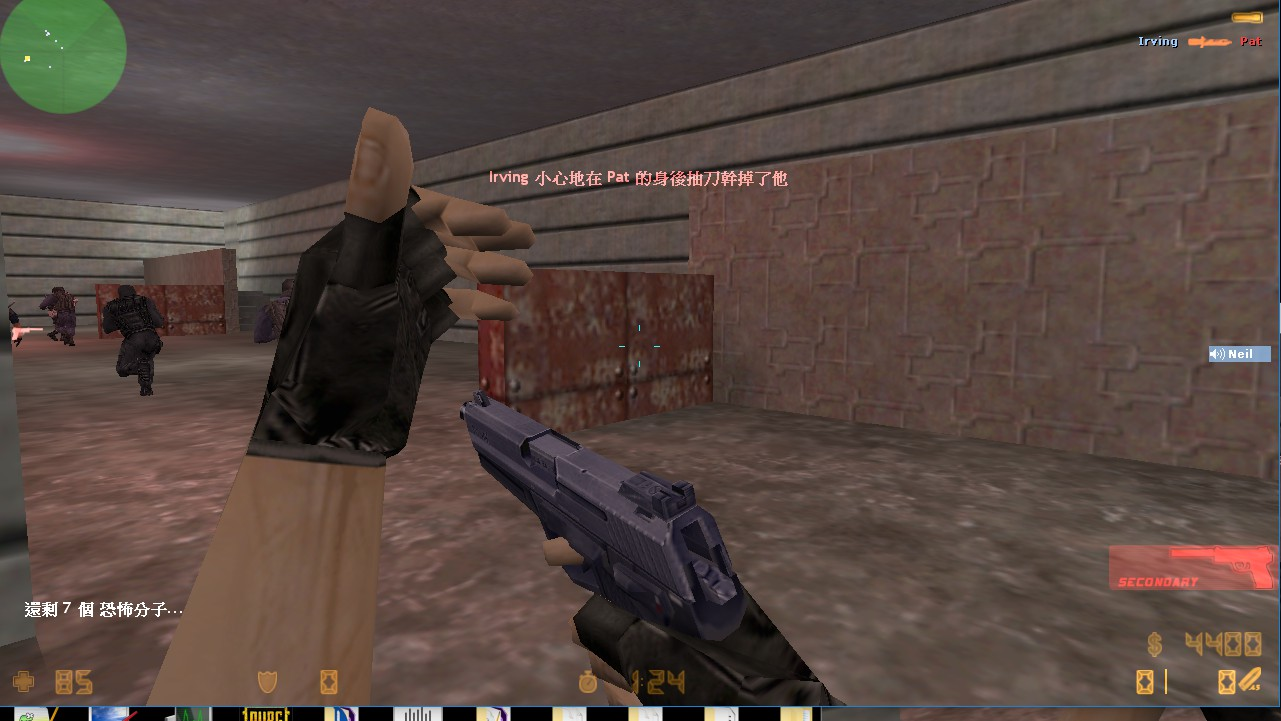person: (94, 283, 168, 405), (39, 280, 86, 353)
